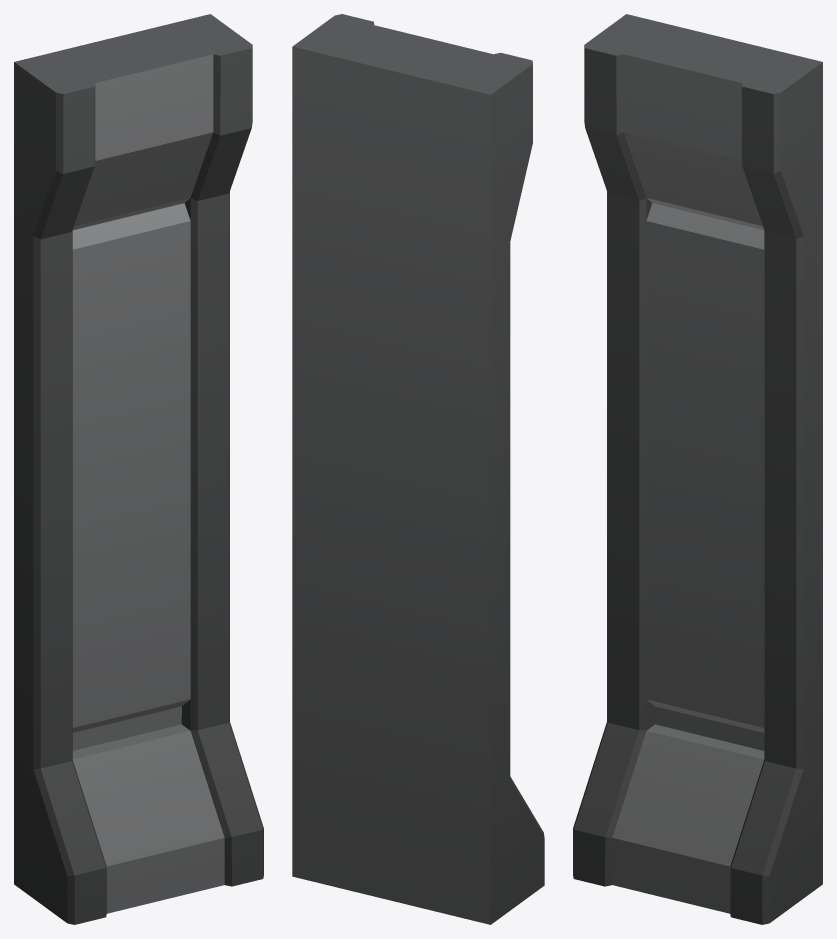
File: Wall_type_B_005.fbx
3 views of the same model, side by side, from view 1: azimuth 30°, elevation 25°; view 2: azimuth 150°, elevation 25°; view 3: azimuth 330°, elevation 25° (orthographic).
Visible parts, largest first — view 1: Wall_type_B_005; view 2: Wall_type_B_005; view 3: Wall_type_B_005.
Boxes of the visible parts, x1,y1,x2,y2 form: Wall_type_B_005: (14, 14, 263, 924); Wall_type_B_005: (292, 14, 544, 924); Wall_type_B_005: (573, 14, 822, 924).
Size of the model in its own units: 100 by 50 by 400.
